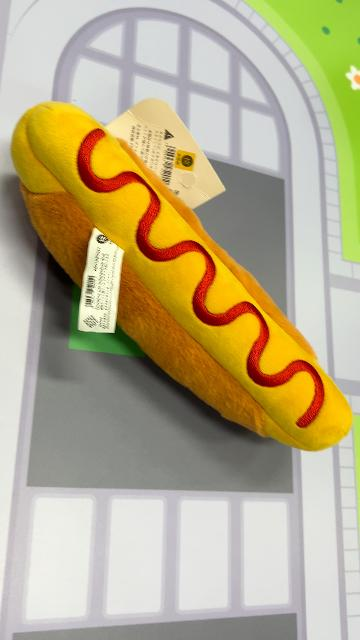hotdog: (11, 100, 354, 453)
